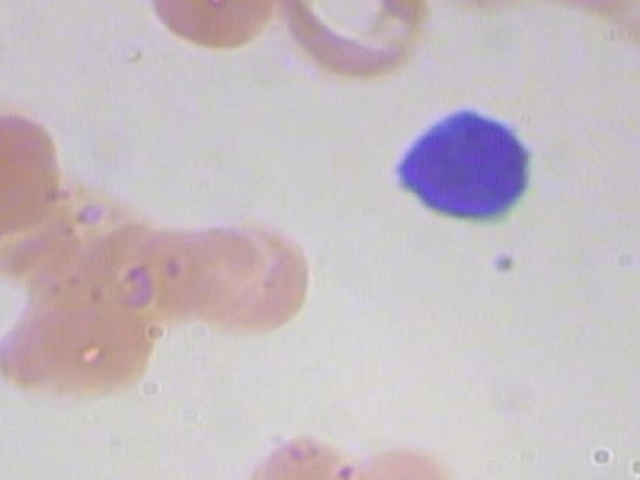RBC: (0, 275, 162, 409), (185, 210, 312, 333), (284, 0, 433, 87), (0, 100, 67, 255), (135, 0, 296, 48), (241, 431, 369, 480), (342, 431, 469, 480), (503, 0, 640, 29), (591, 0, 640, 54)
WBC: (374, 89, 553, 246)
